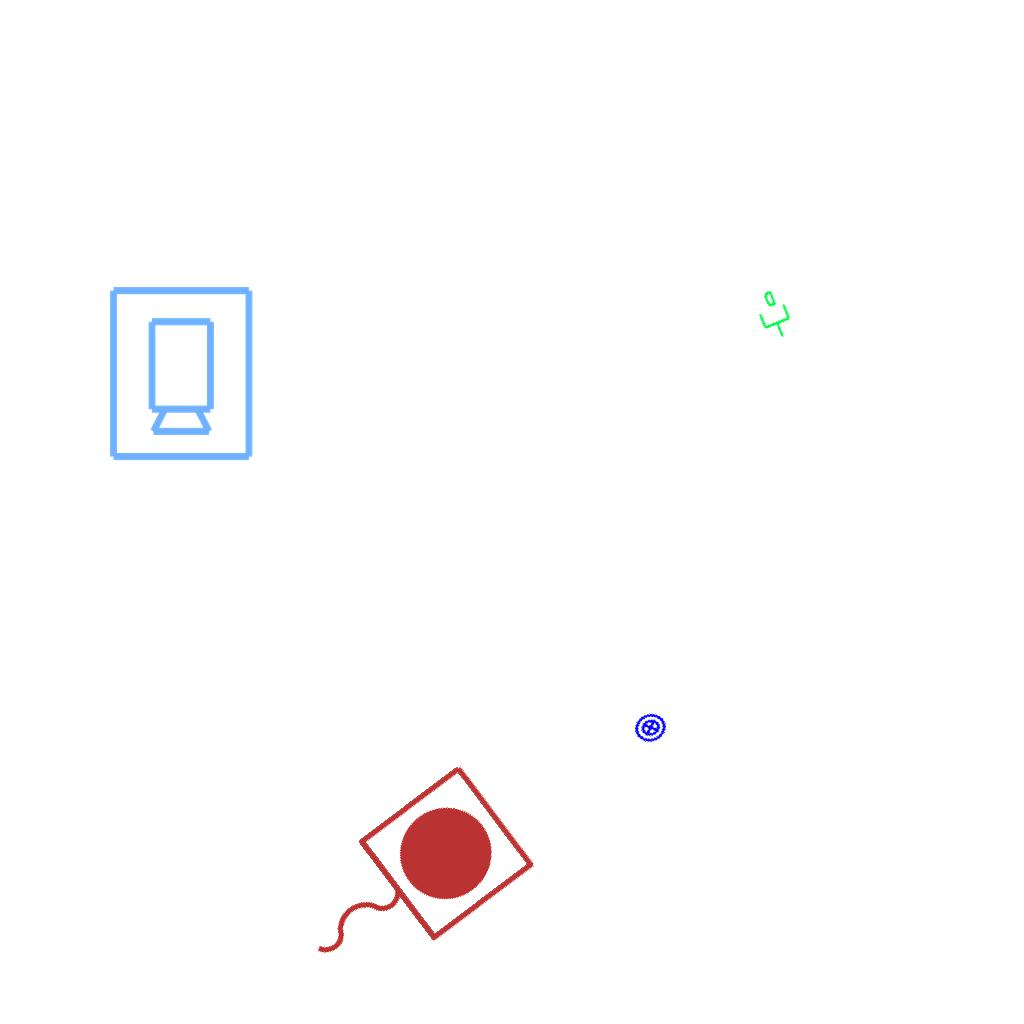Datenanschluss_einfach: (747, 285, 799, 345)
KFO_Kamera_mit_Festobjektiv: (103, 282, 257, 464)
Taster_beleuchtet: (629, 706, 672, 749)
Zugtaster: (264, 751, 546, 1013)
